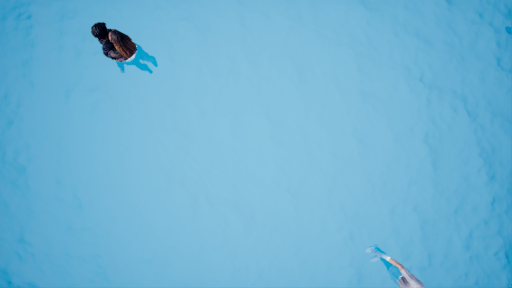person: (83, 14, 162, 74), (357, 228, 435, 288)
